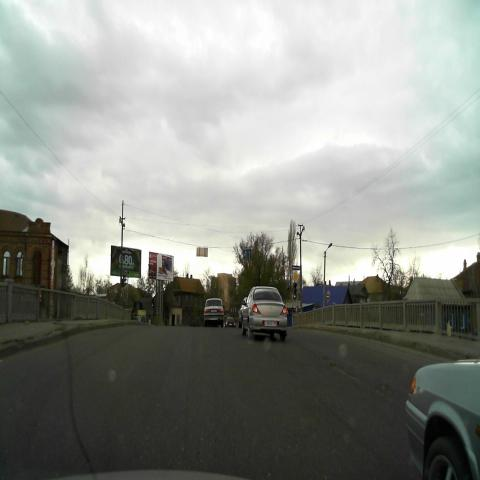2_1: (293, 271, 299, 282)
3_1: (326, 289, 330, 298)
5_15_2_2: (243, 249, 254, 261)
6_16: (292, 299, 302, 306)
